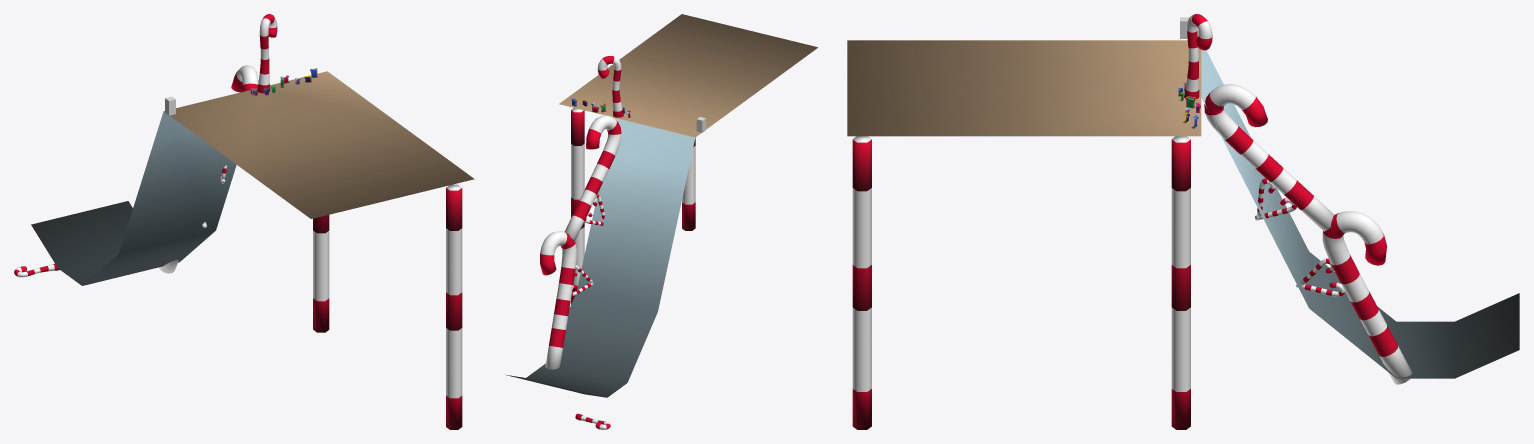
Rendered from Canes.glb.
3 renders of one model, left to right at view 1: azimuth 30°, elevation 25°; view 2: azimuth 150°, elevation 25°; view 3: azimuth 270°, elevation 25°, orthographic. The views are drawn at different scales.
Parts seen in each view (by area): view 1: Plane, Cylinder.001, Cylinder, NurbsPath.003, NurbsPath.004; view 2: Plane, NurbsPath.004, Cylinder, Cylinder.001, NurbsPath.003; view 3: Plane, NurbsPath.004, Cylinder, Cylinder.001, NurbsPath.003.
Part boxes in pixels (box(x1,y1,x2,y2)): Plane: box(31, 71, 474, 285); Cylinder.001: box(446, 184, 462, 429); Cylinder: box(313, 215, 329, 332); NurbsPath.003: box(257, 14, 277, 93); NurbsPath.004: box(159, 65, 258, 273); Plane: box(506, 14, 817, 397); NurbsPath.004: box(540, 115, 621, 369); Cylinder: box(571, 108, 584, 304); Cylinder.001: box(682, 138, 695, 230); NurbsPath.003: box(597, 56, 623, 117); Plane: box(847, 40, 1519, 378); NurbsPath.004: box(1204, 84, 1411, 384); Cylinder: box(1171, 136, 1190, 429); Cylinder.001: box(852, 136, 871, 429); NurbsPath.003: box(1184, 14, 1212, 99).
Bounding box in the file's own units: 26.66 × 44.23 × 69.29.
Materials: 4 (4 with a texture image).
